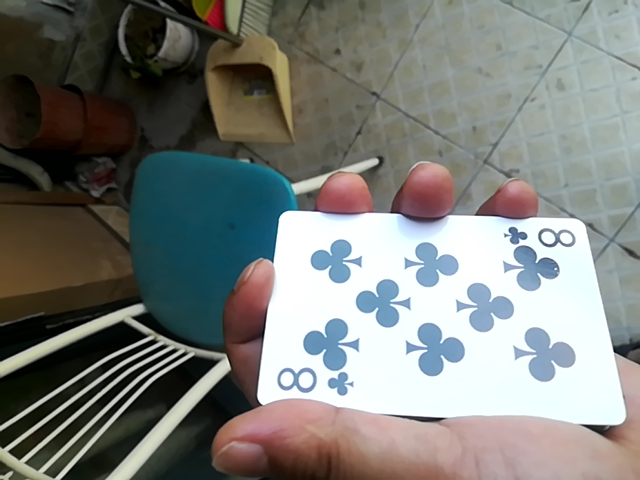mh 8: (255, 206, 634, 427)
